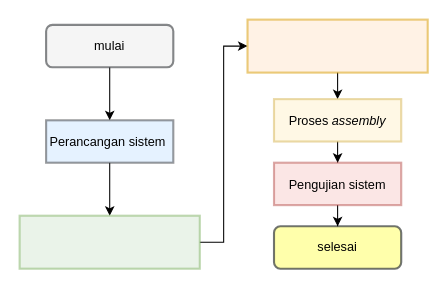
Image size: 446x287. Some labels were removed from this diagram. The shapes that lost their labels are listed below. From the top down, each one's box as (x1, y1, x2, y2) in pixels, then its label:
(246, 18, 428, 73): perancangan perangkat lunak sistem
(18, 214, 200, 269): perancangan perangkat keras sistem
